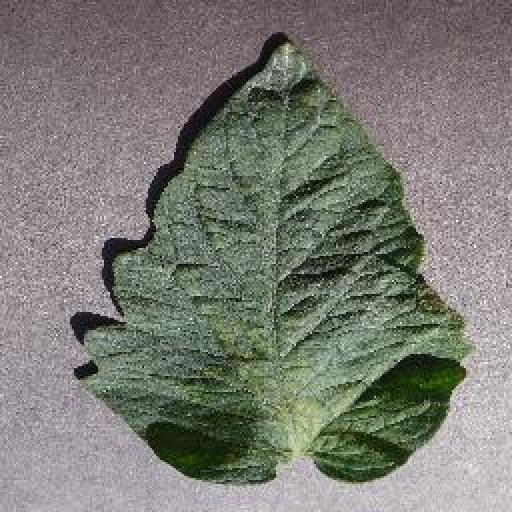disease_tomato: (71, 37, 472, 484)
